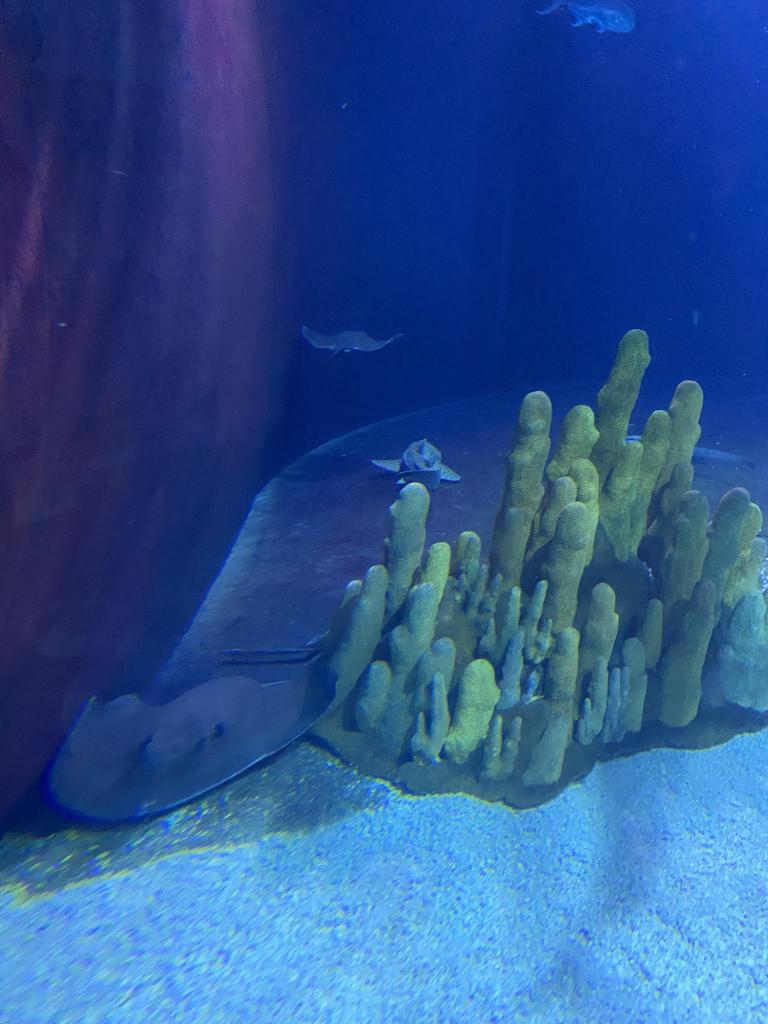fish: (535, 0, 636, 33)
shark: (370, 438, 460, 490)
stingray: (46, 660, 338, 820), (301, 325, 403, 351)
